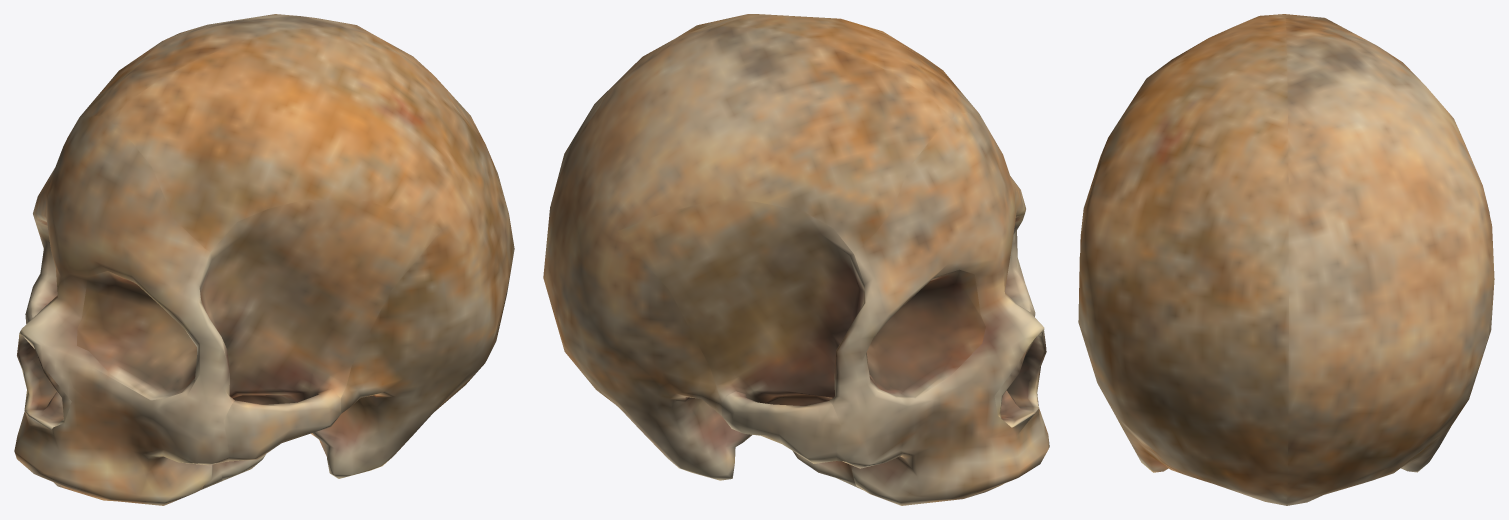
Rendered from SM_Skull.fbx.
3 renders of one model, left to right at view 1: azimuth 30°, elevation 25°; view 2: azimuth 150°, elevation 25°; view 3: azimuth 270°, elevation 25°, orthographic.
Visible parts, largest first — view 1: SM_Skull_LOD0; view 2: SM_Skull_LOD0; view 3: SM_Skull_LOD0.
Boxes of the visible parts, box(x1,y1,x2,y2) form: SM_Skull_LOD0: box(14, 14, 514, 505); SM_Skull_LOD0: box(543, 14, 1049, 505); SM_Skull_LOD0: box(1078, 14, 1494, 505).
Bounding box in the file's own units: 23.75 × 18.17 × 19.56.
1 material, 1 textured.
